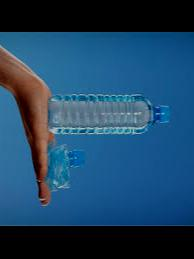Plastic: (41, 92, 172, 140), (36, 140, 84, 198)
